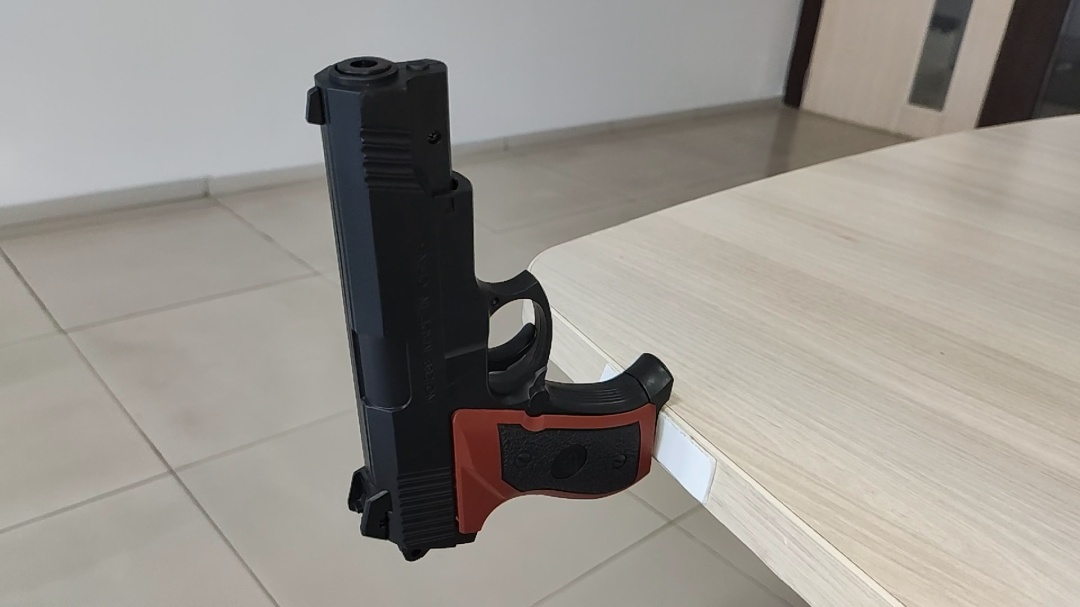gun: (406, 141, 741, 403)
